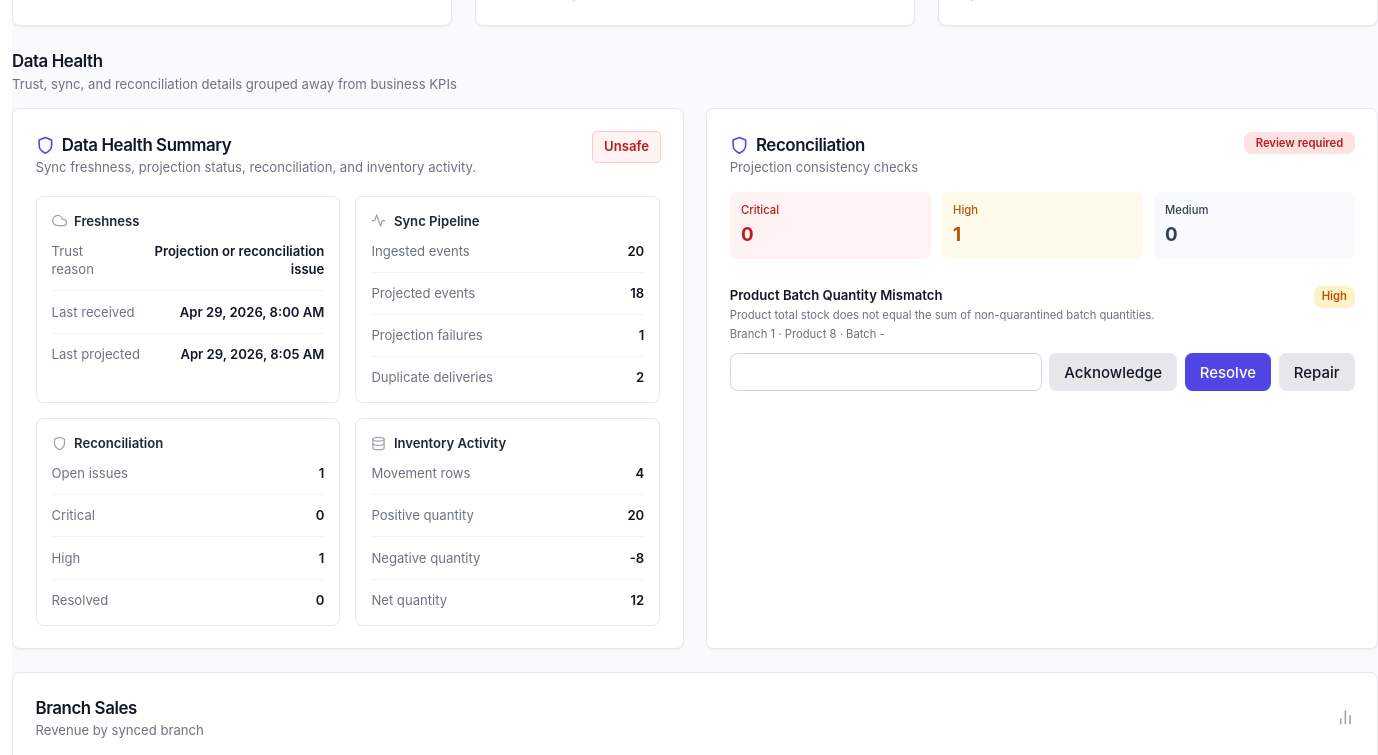
CloudDashboardPage › runs controlled reconciliation repairs from the dashboard
The image size is (1378, 755).
(page scrolled)
Expected: the text "product batch quantity mismatch" is shown, [730, 286, 942, 302]
Type "Repair cloud total from batches." into the field named "reconciliation notes issue-stock-mismatch".
click(886, 372); type("Repair cloud total from batches.")  # box [730, 353, 1042, 390]
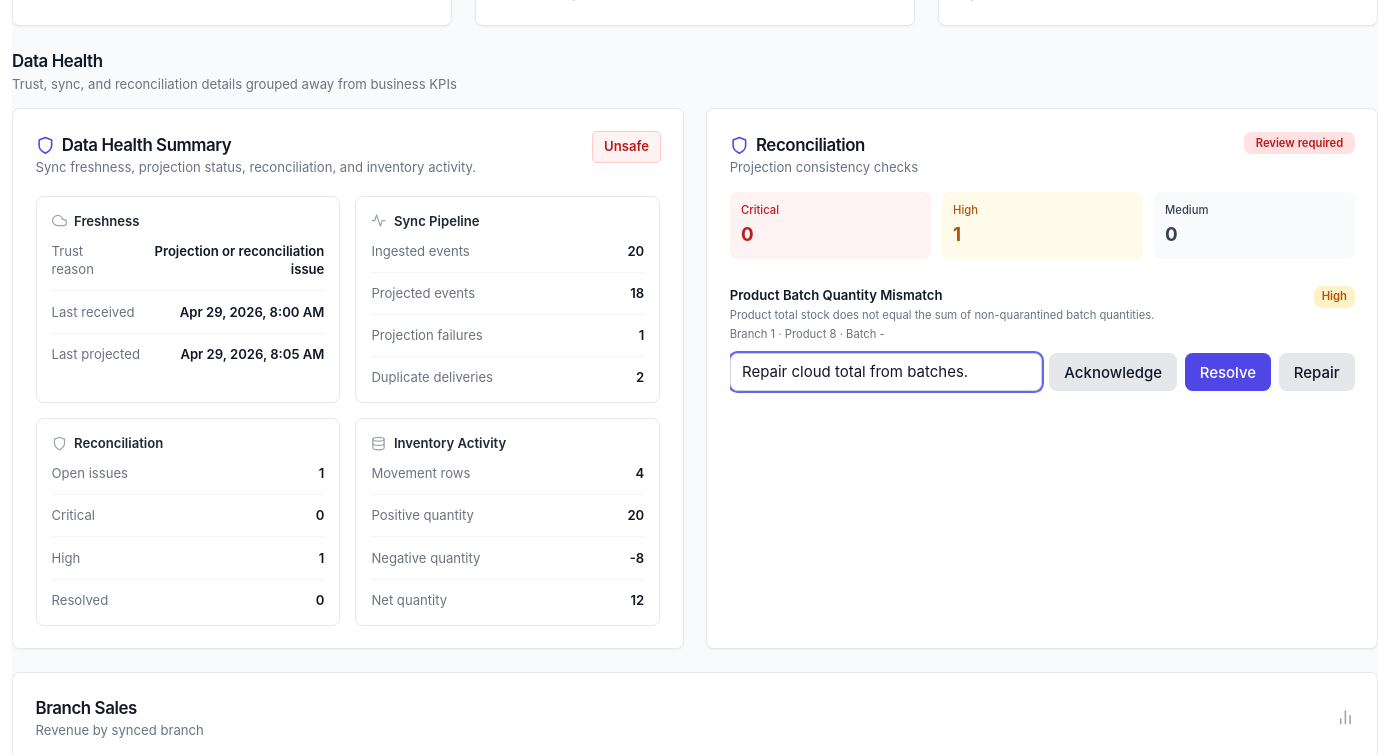
Click the button "Repair".
click(1317, 372)  # box [1279, 353, 1354, 390]
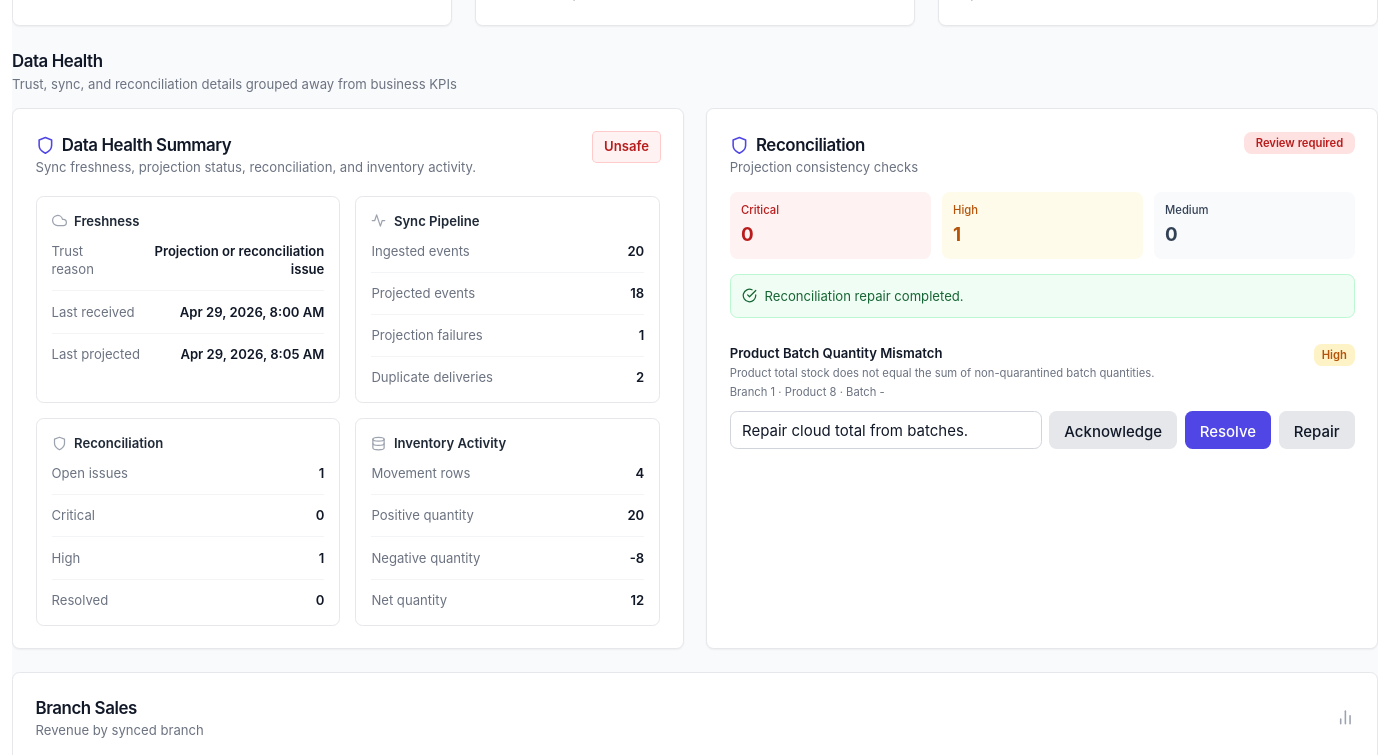
Result: the text "Reconciliation repair completed." is shown at [730, 274, 1355, 318]
